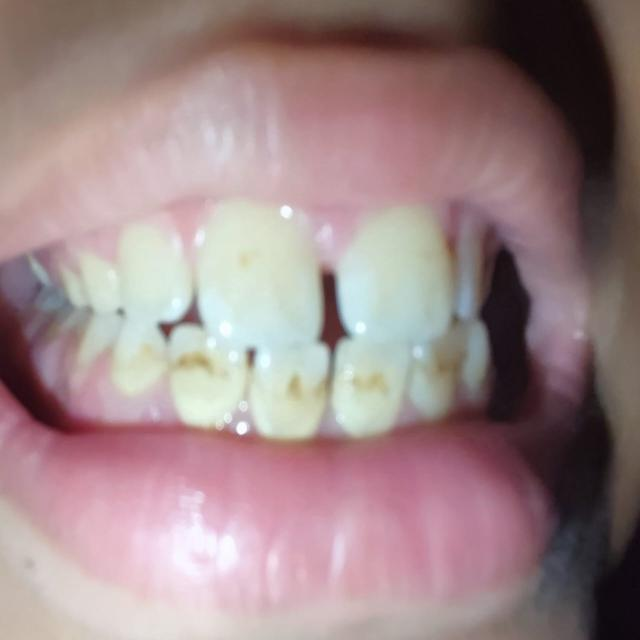tooth: (198, 212, 326, 352), (334, 198, 452, 342), (118, 211, 190, 320), (167, 327, 239, 421), (256, 345, 318, 435), (339, 345, 401, 435), (123, 319, 157, 394)
